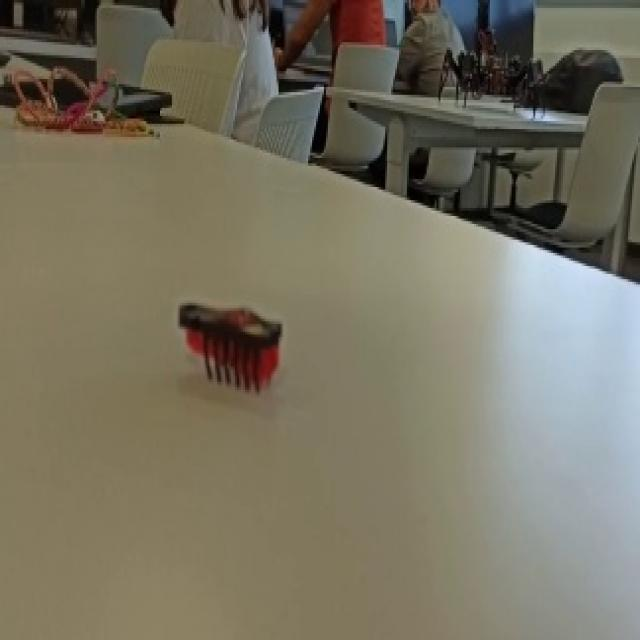2_NanoBug_Negro: (134, 258, 310, 416)
